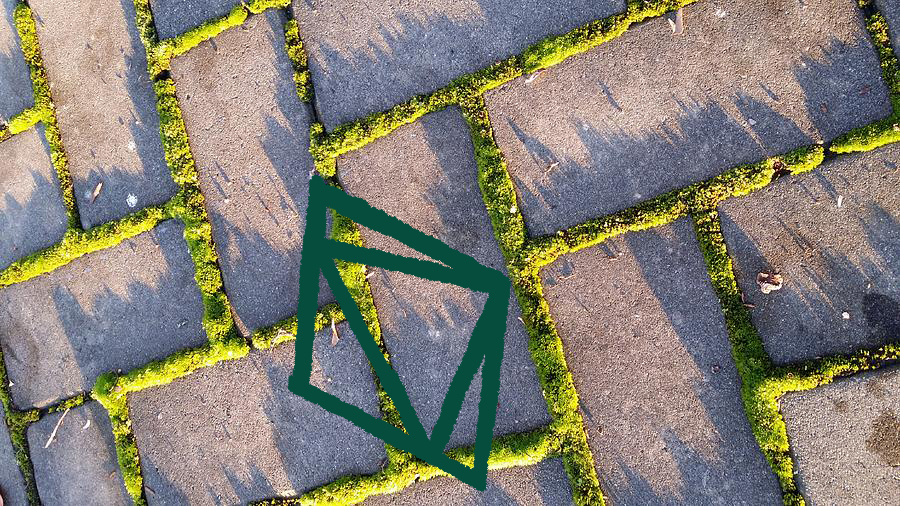marker: (280, 169, 515, 496)
